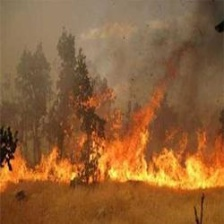fire: (1, 98, 224, 197)
smoke: (107, 4, 224, 88)
